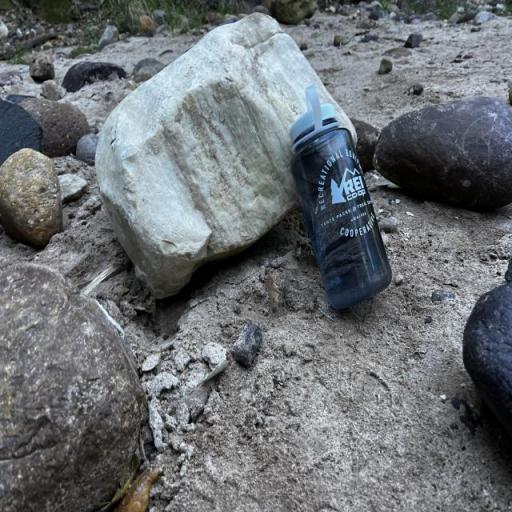bottle: (288, 84, 392, 312)
